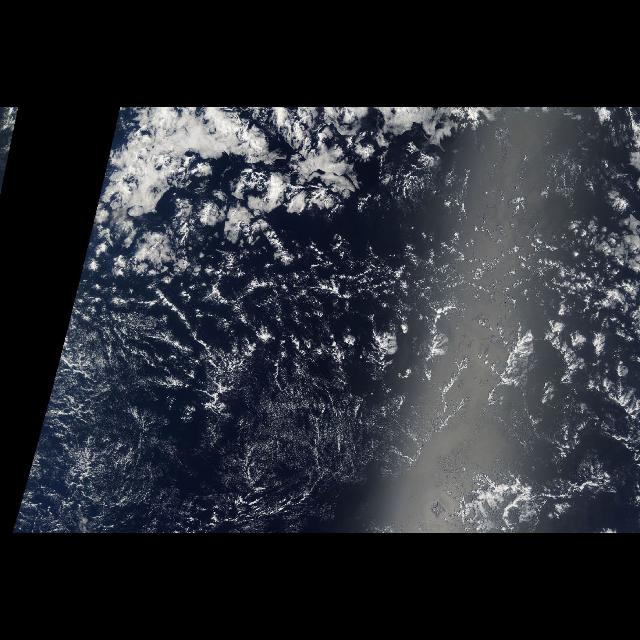Flower: (147, 160, 639, 380)
Gravel: (137, 260, 537, 364)
Sugar: (29, 357, 443, 527)
